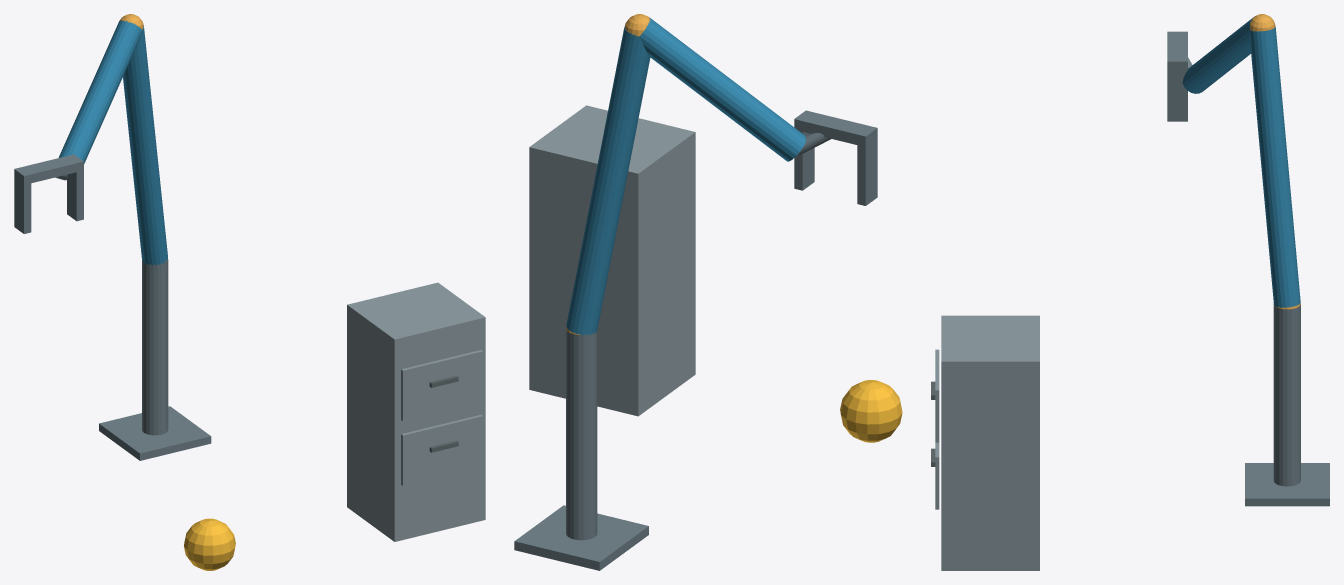
3 views of the same model, side by side, from view 1: azimuth 30°, elevation 25°; view 2: azimuth 150°, elevation 25°; view 3: azimuth 270°, elevation 25° (orthographic). The views are drawn at different scales.
Parts seen in each view (by area): view 1: cabinet_1 body, moving link 1, fixed post, cabinet_1 drawer front, cabinet_1 drawer front.001, moving link 2, pedestal, ball ball_1, gripper bridge, gripper finger -1, gripper finger 1; view 2: cabinet_1 body, moving link 1, fixed post, moving link 2, pedestal, ball ball_1, gripper bridge, gripper finger -1, gripper finger 1; view 3: cabinet_1 body, moving link 1, fixed post, pedestal, moving link 2, gripper finger 1, gripper bridge.
Part boxes in pixels (left/top/right/bottom): cabinet_1 body: left=347, top=282, right=485, bottom=541; moving link 1: left=123, top=25, right=167, bottom=265; fixed post: left=142, top=259, right=168, bottom=435; cabinet_1 drawer front: left=401, top=414, right=483, bottom=485; cabinet_1 drawer front.001: left=401, top=350, right=483, bottom=421; moving link 2: left=58, top=20, right=141, bottom=163; pedestal: left=99, top=406, right=211, bottom=460; ball ball_1: left=184, top=518, right=235, bottom=570; gripper bridge: left=14, top=154, right=83, bottom=184; gripper finger -1: left=14, top=178, right=31, bottom=233; gripper finger 1: left=67, top=170, right=83, bottom=221; cabinet_1 body: left=529, top=105, right=695, bottom=416; moving link 1: left=566, top=27, right=650, bottom=335; fixed post: left=566, top=328, right=597, bottom=540; moving link 2: left=640, top=17, right=806, bottom=161; pedestal: left=514, top=505, right=648, bottom=570; ball ball_1: left=840, top=380, right=902, bottom=442; gripper bridge: left=794, top=110, right=877, bottom=147; gripper finger -1: left=857, top=139, right=877, bottom=205; gripper finger 1: left=794, top=131, right=814, bottom=190; cabinet_1 body: left=941, top=315, right=1039, bottom=570; moving link 1: left=1249, top=27, right=1300, bottom=307; fixed post: left=1273, top=304, right=1300, bottom=486; pedestal: left=1245, top=463, right=1329, bottom=506; moving link 2: left=1182, top=16, right=1254, bottom=93; gripper finger 1: left=1167, top=71, right=1187, bottom=121; gripper bridge: left=1167, top=31, right=1187, bottom=70.
Size of the model in its own units: 1.24 by 1.48 by 1.17.
